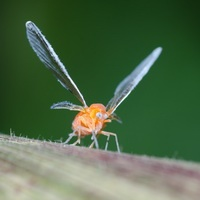insect: (26, 21, 161, 151)
